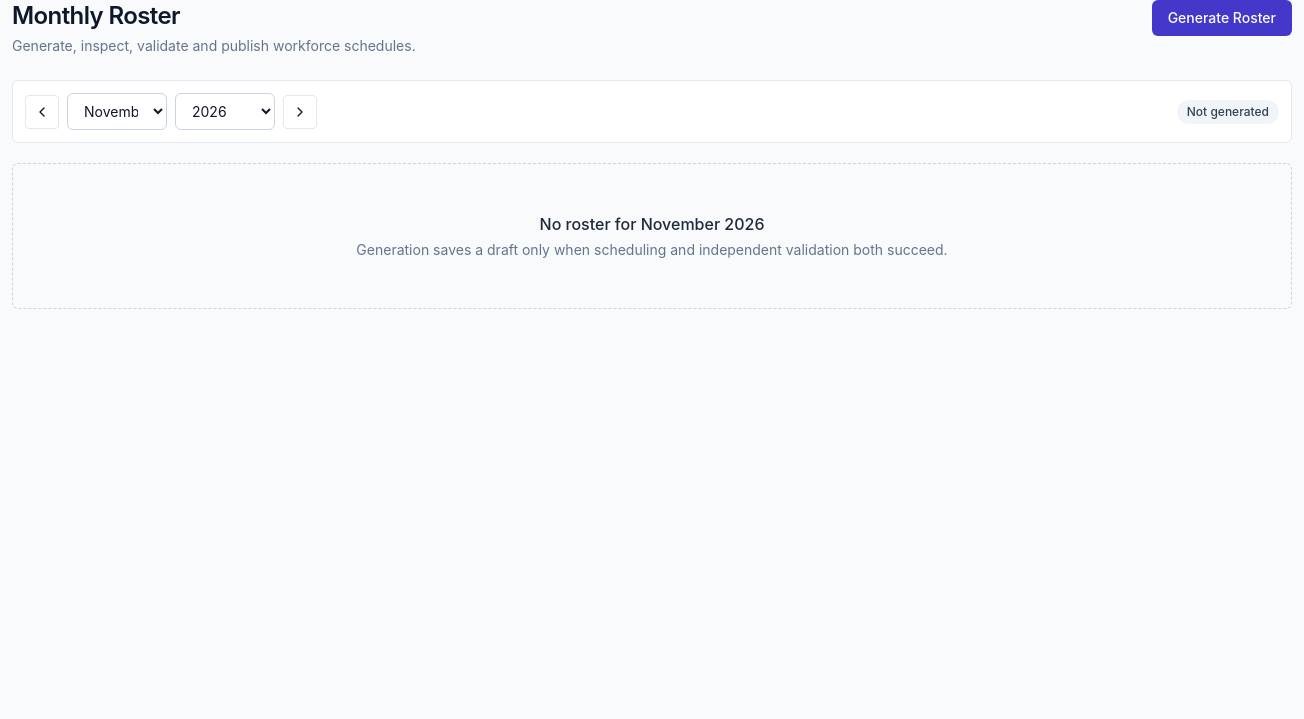
Test: Task 9 monthly roster › requires an employee selection and shows that employee's assignments across brands
The image size is (1304, 719).
Select "December" in the dropdown named "Roster month" at (117, 112), box [67, 93, 167, 130]
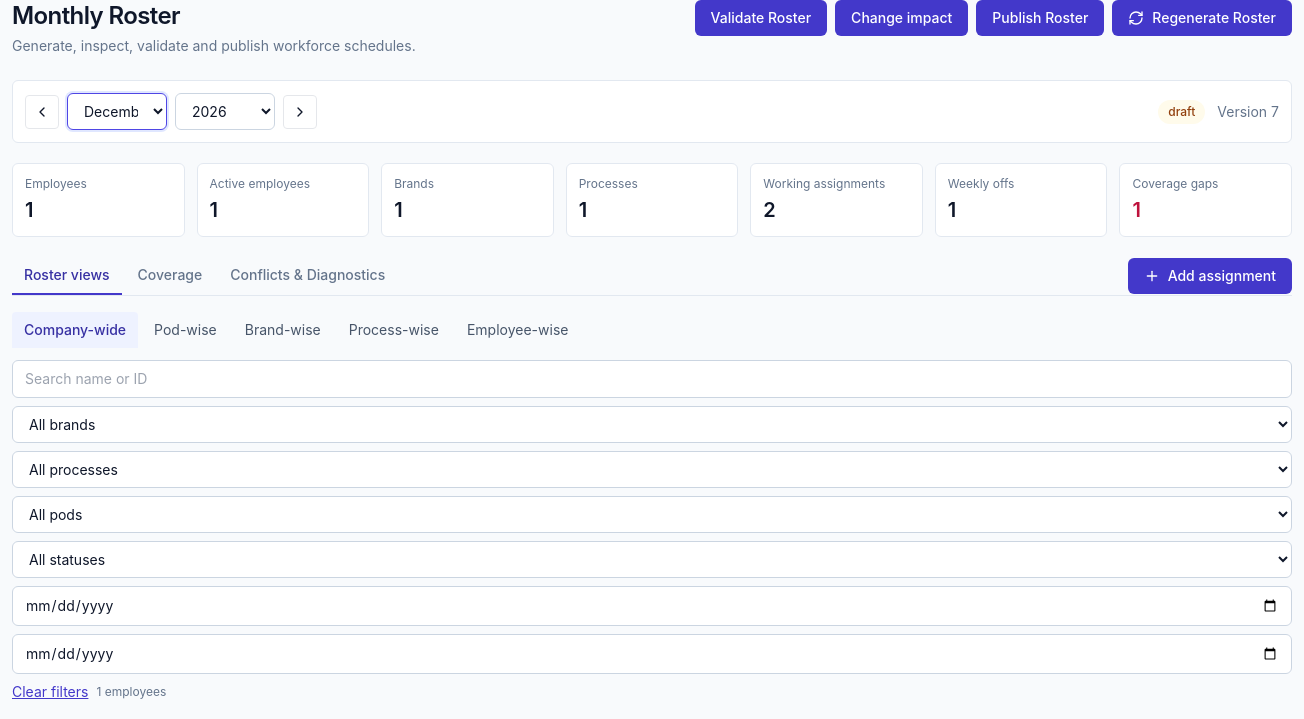
Click the tab "Employee-wise" at (518, 330), box [455, 312, 580, 348]
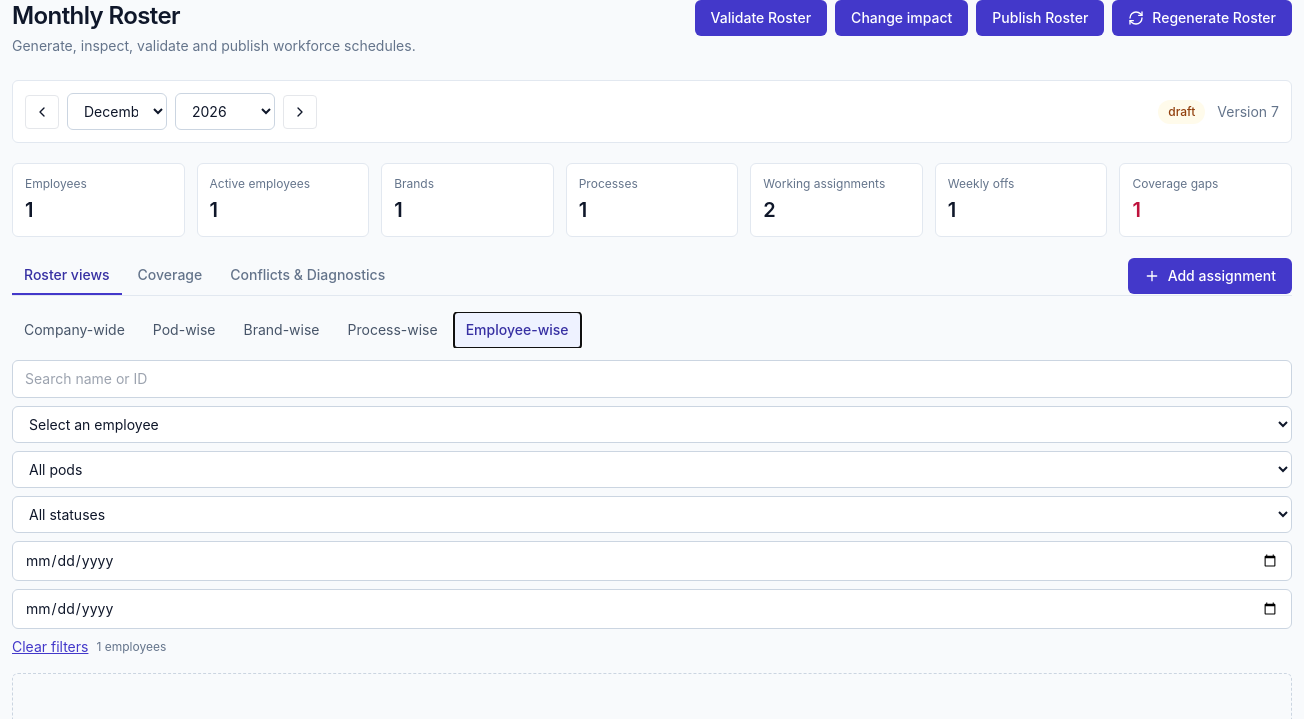
Select "Ari Example · E001" in the dropdown named "Employee-wise employee selector" at (652, 424), box [12, 406, 1292, 443]
(page scrolled)
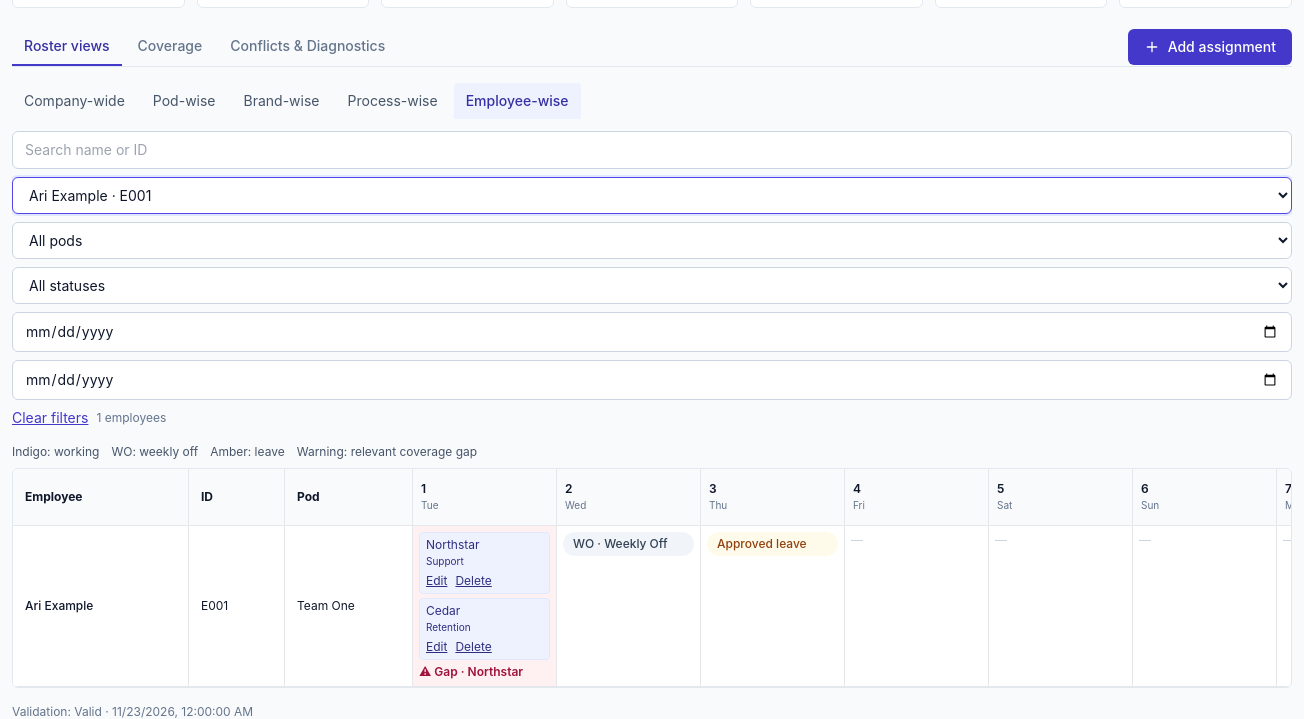
Expected: the text "Northstar" is shown, [426, 537, 480, 552]
Expected: the text "Cedar" is shown, [426, 603, 460, 618]
